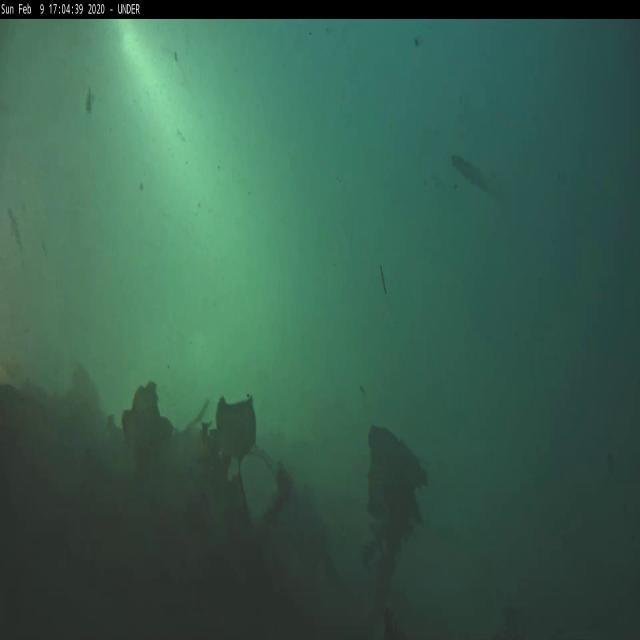fish: (452, 153, 494, 201)
